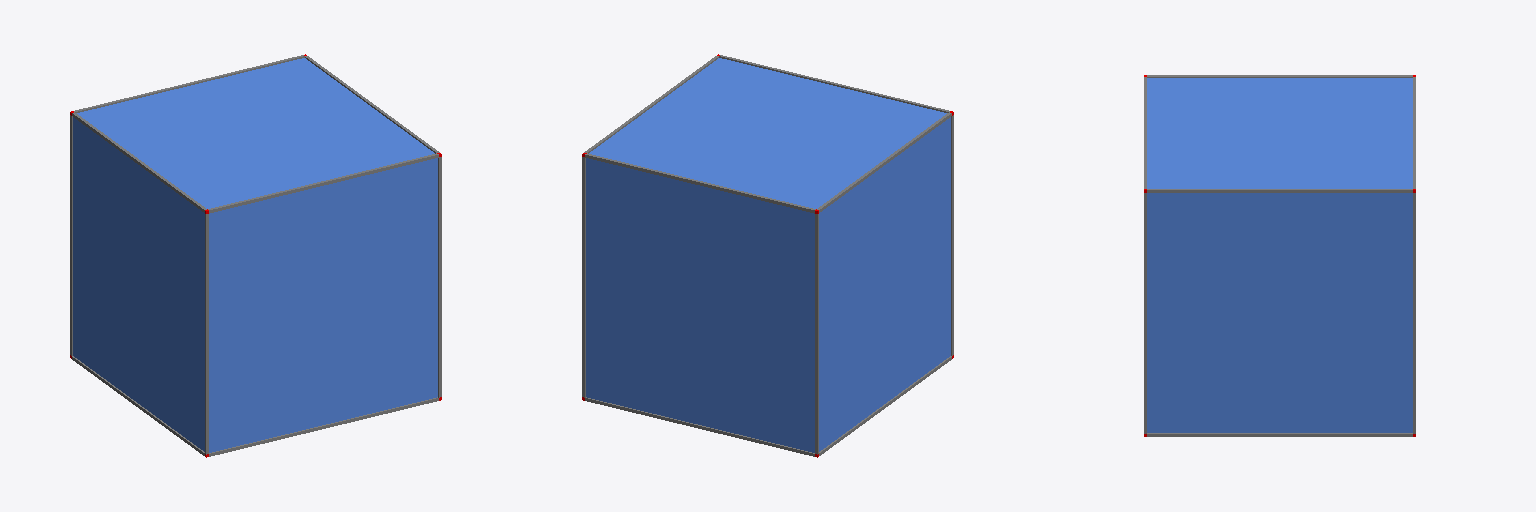
Rendered from Kub.obj.
The picture shows the model from 3 angles: view 1: azimuth 30°, elevation 25°; view 2: azimuth 150°, elevation 25°; view 3: azimuth 270°, elevation 25°; orthographic projection.
Visible parts, largest first — view 1: Mesh1 Model; view 2: Mesh1 Model; view 3: Mesh1 Model.
Part boxes in pixels (x1,y1,x2,y2): Mesh1 Model: (70,54,441,457); Mesh1 Model: (582,54,953,457); Mesh1 Model: (1144,75,1415,436).
Size of the model in its own units: 40 by 40 by 40.